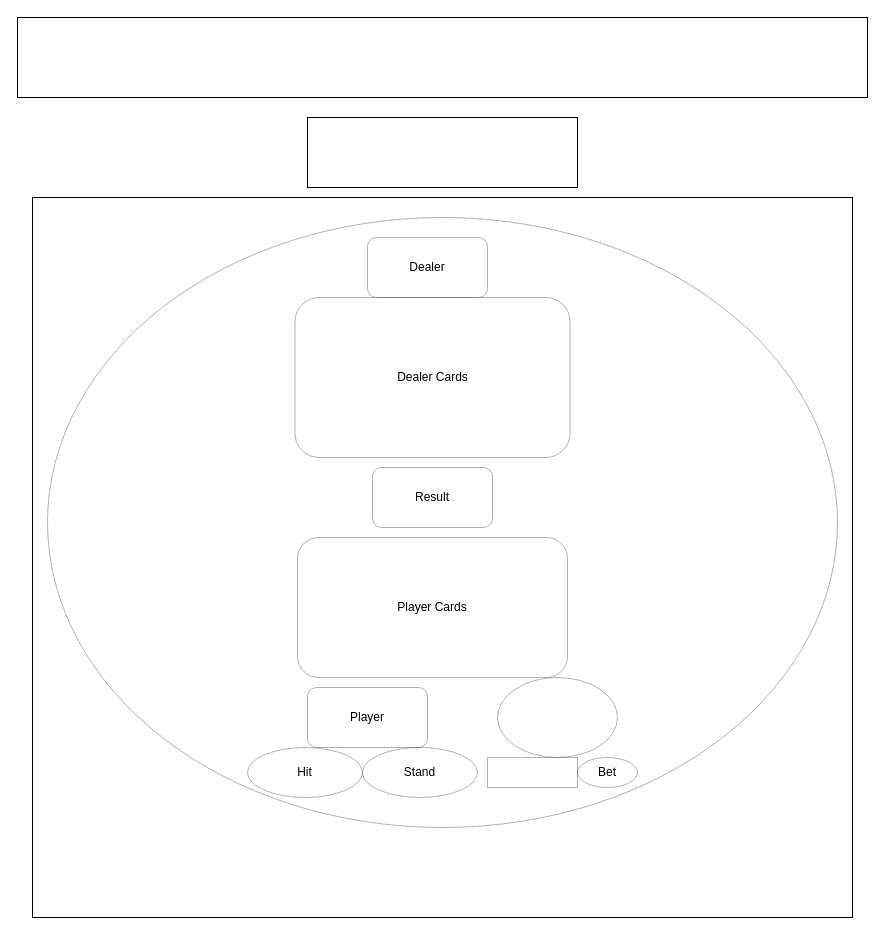
This 885x935 diagram has some shape labels left out. The centre of each missing label's shape, as x and y in pixels:
$ Wager: point (532, 772)
$Bankroll: point (557, 717)
Navbar: point (442, 57)
Welcome! Ready to play some BlackJack?: point (442, 152)
